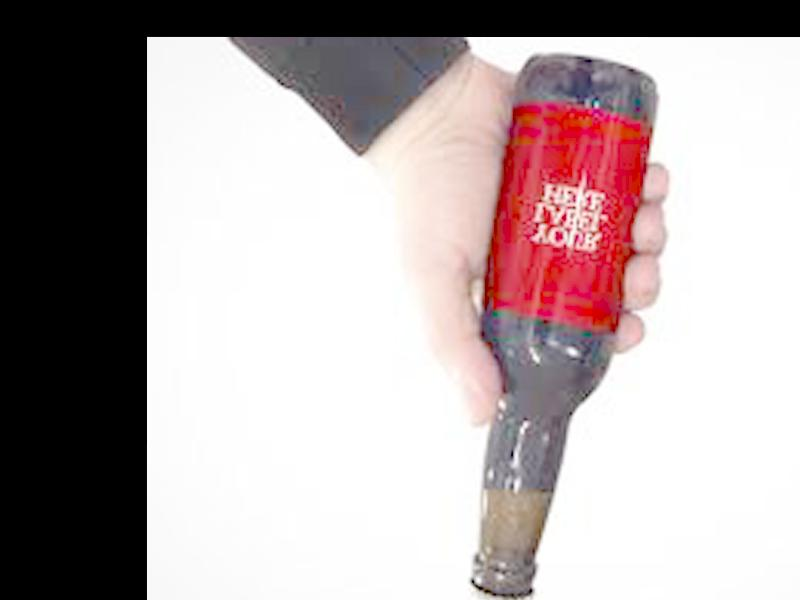Beer: (465, 54, 660, 600)
